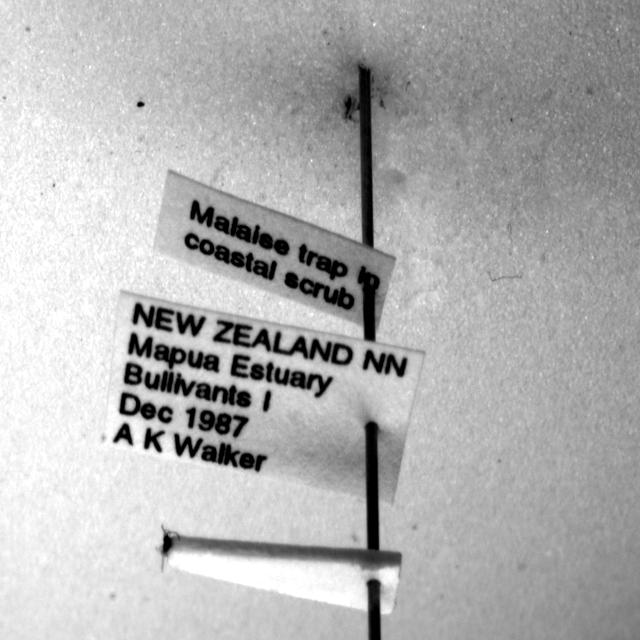typed_label: (105, 292, 424, 502), (155, 171, 395, 324)
